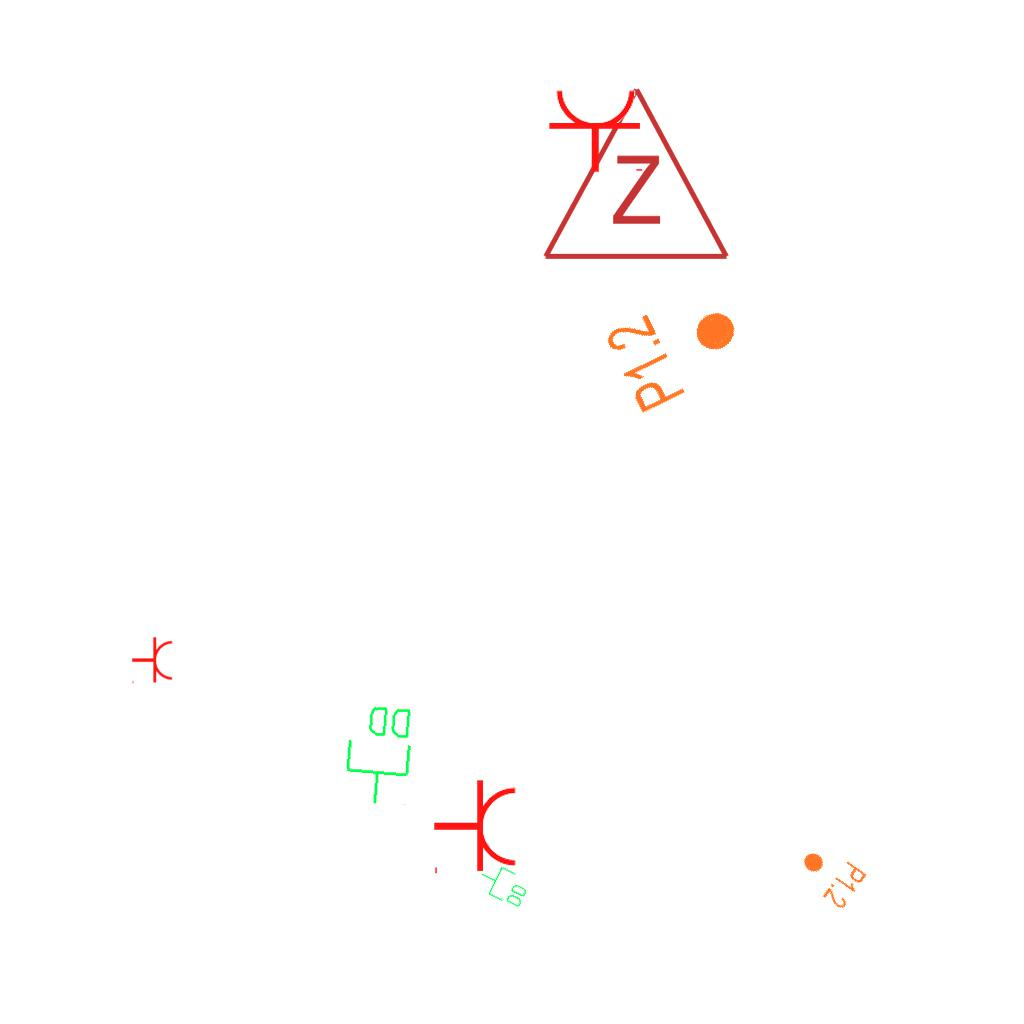Datenanschluss_zweifach: (340, 700, 419, 809), (473, 858, 534, 912)
Downlight_LED_Einbauleuchten_Flur: (599, 278, 756, 418), (790, 837, 870, 913)
Schukosteckdose_einfach: (432, 778, 519, 878), (547, 87, 647, 174), (131, 636, 174, 686)
Zimmersignalleuchte: (536, 74, 732, 274)
